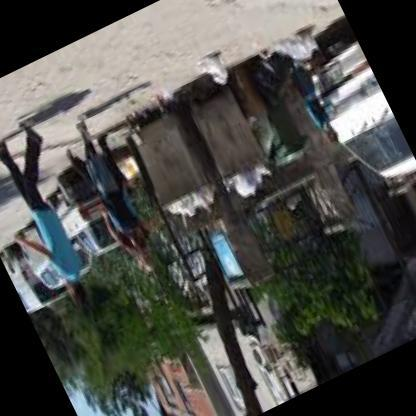Garbage: (247, 22, 328, 95), (168, 184, 227, 232), (222, 158, 277, 206)
